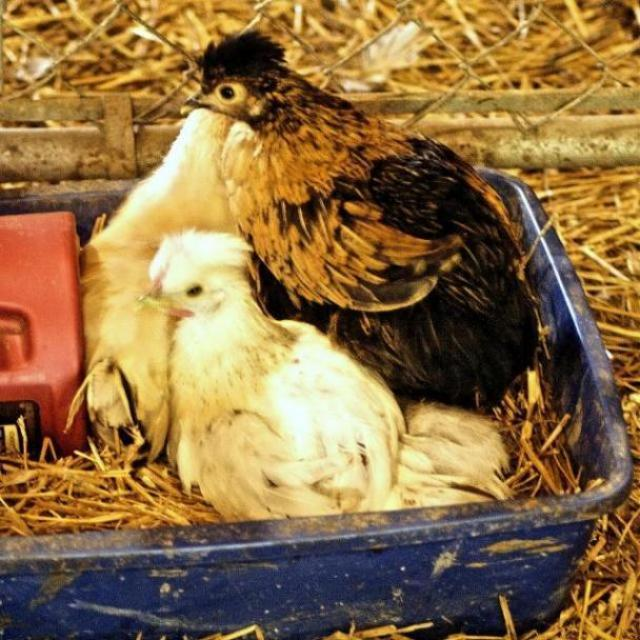Chicken: (176, 26, 546, 418), (126, 227, 514, 534), (83, 105, 246, 459)
